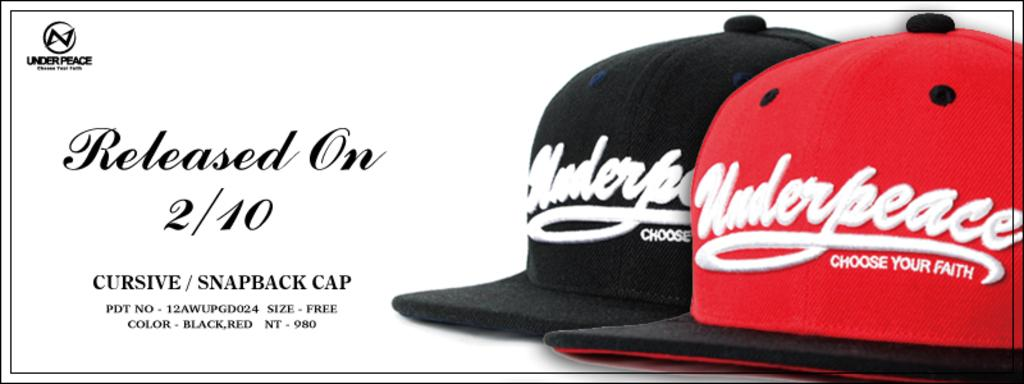Hat: (545, 12, 1022, 382), (390, 12, 844, 336)
